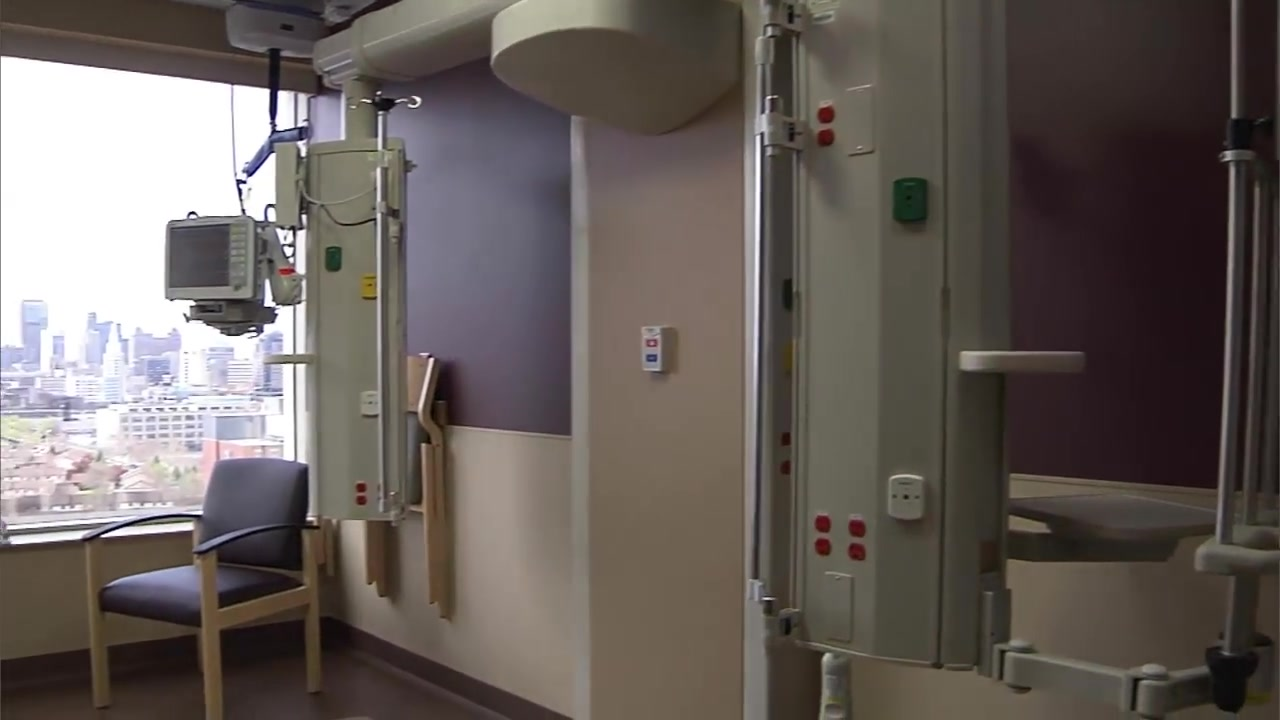bedside_monitor: (164, 214, 258, 306)
chair: (80, 457, 321, 720)
iv_pole: (345, 92, 422, 512)
